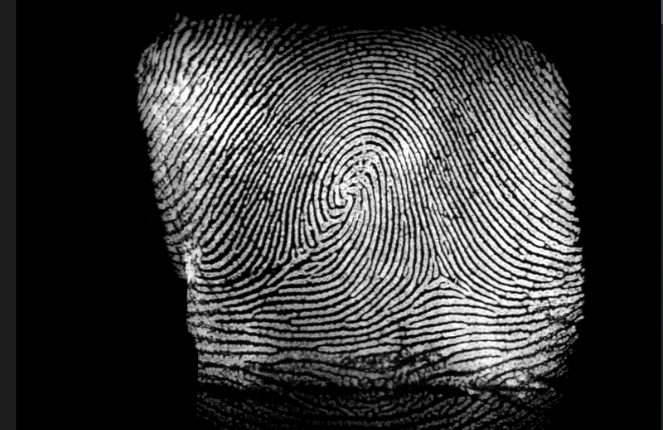nucelo: (335, 165, 371, 199)
verticilo: (427, 260, 453, 288), (286, 242, 312, 267)
